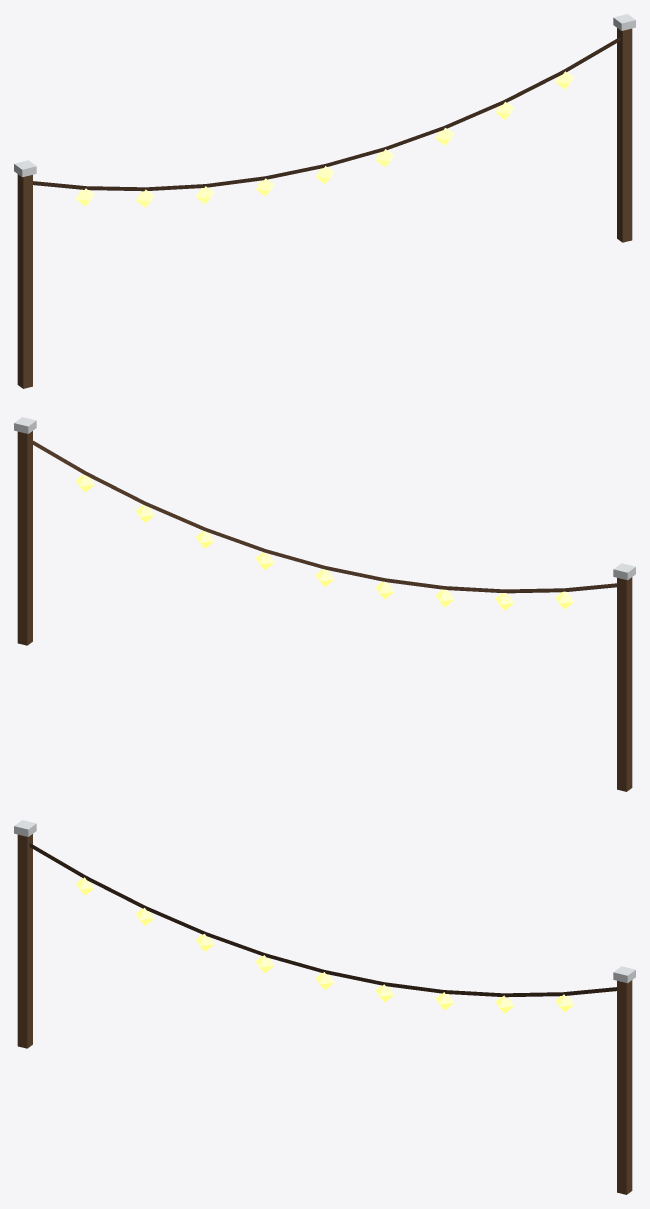
File: string-lights.glb
The picture shows the model from 3 angles, top to bottom: view 1: azimuth 30°, elevation 25°; view 2: azimuth 150°, elevation 25°; view 3: azimuth 330°, elevation 25°; orthographic projection.
Parts seen in each view (by area): view 1: string-lights; view 2: string-lights; view 3: string-lights.
Part boxes in pixels (box(x1,y1,x2,y2)): string-lights: box(14, 14, 635, 388); string-lights: box(14, 417, 635, 791); string-lights: box(14, 820, 635, 1194).
Bounding box in the file's own units: 10.24 × 3.52 × 0.3199.
